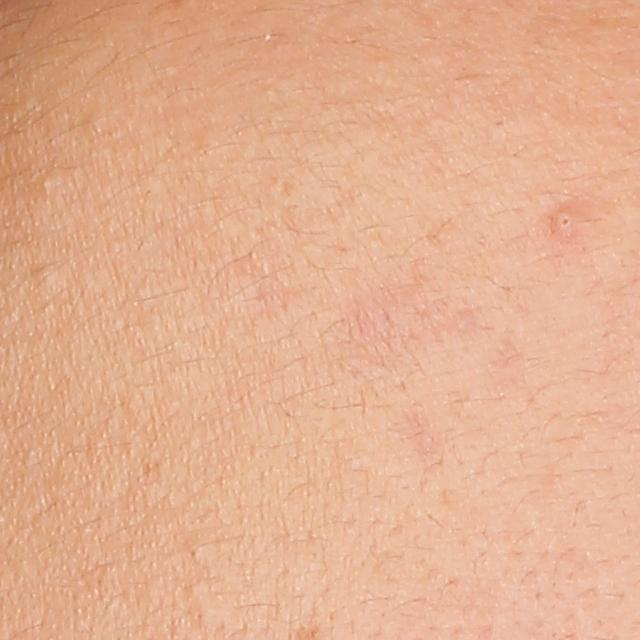comedo: (33, 261, 60, 293), (549, 204, 577, 233), (36, 171, 61, 195)
